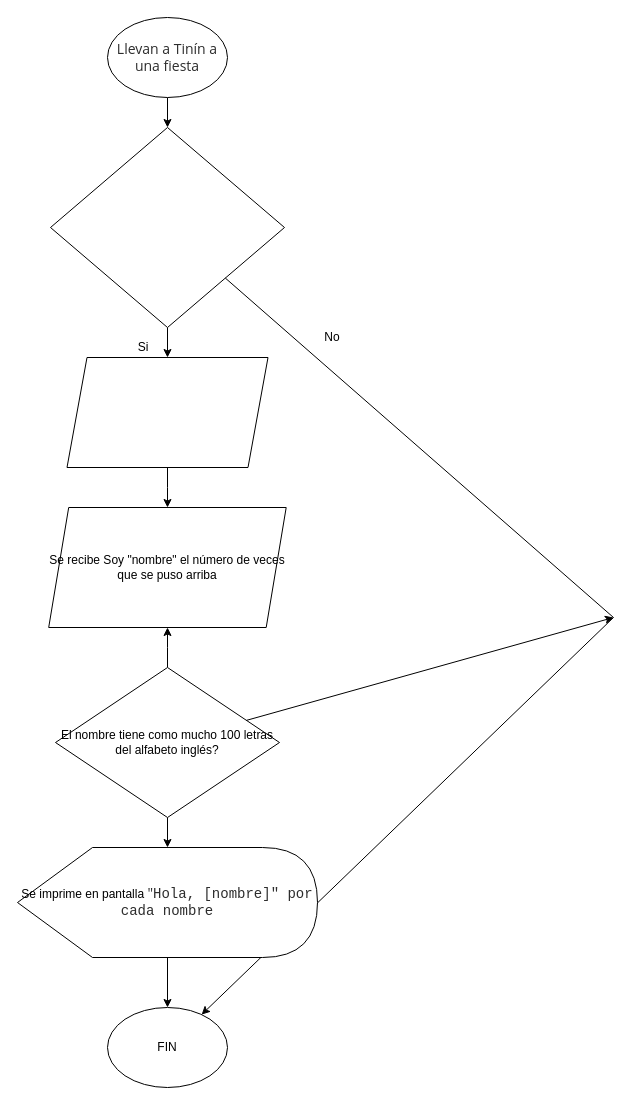
The diagram is 639 pixels wide and 1105 high, and some of its shapes have lost their labels. Each missing label, with the centre of its shape:
"Se recibe un número, de las personas que Tinín no conoce en la fiesta" belongs at pixel 167 412.
"¿Hay gente que Tinín no conozca en la fiesta?" belongs at pixel 167 227.
